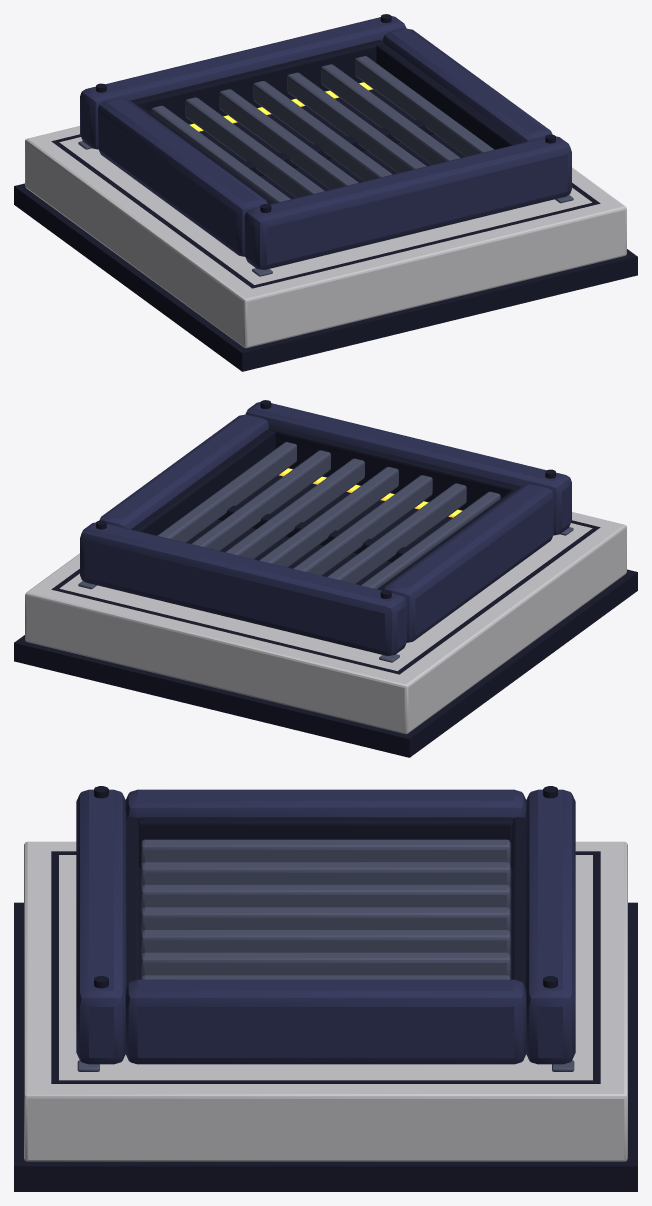
The model's file is roof.square.vent.glb.
3 views of the same model, one above another, from view 1: azimuth 30°, elevation 25°; view 2: azimuth 150°, elevation 25°; view 3: azimuth 270°, elevation 25° (orthographic). The views are drawn at different scales.
Parts seen in each view (by area): view 1: GEO-roof.square.vent; view 2: GEO-roof.square.vent; view 3: GEO-roof.square.vent.
Boxes of the visible parts, x1,y1,x2,y2 form: GEO-roof.square.vent: (14, 14, 637, 371); GEO-roof.square.vent: (14, 400, 637, 757); GEO-roof.square.vent: (14, 786, 637, 1191).
Size of the model in its own units: 1 by 0.311 by 1.
